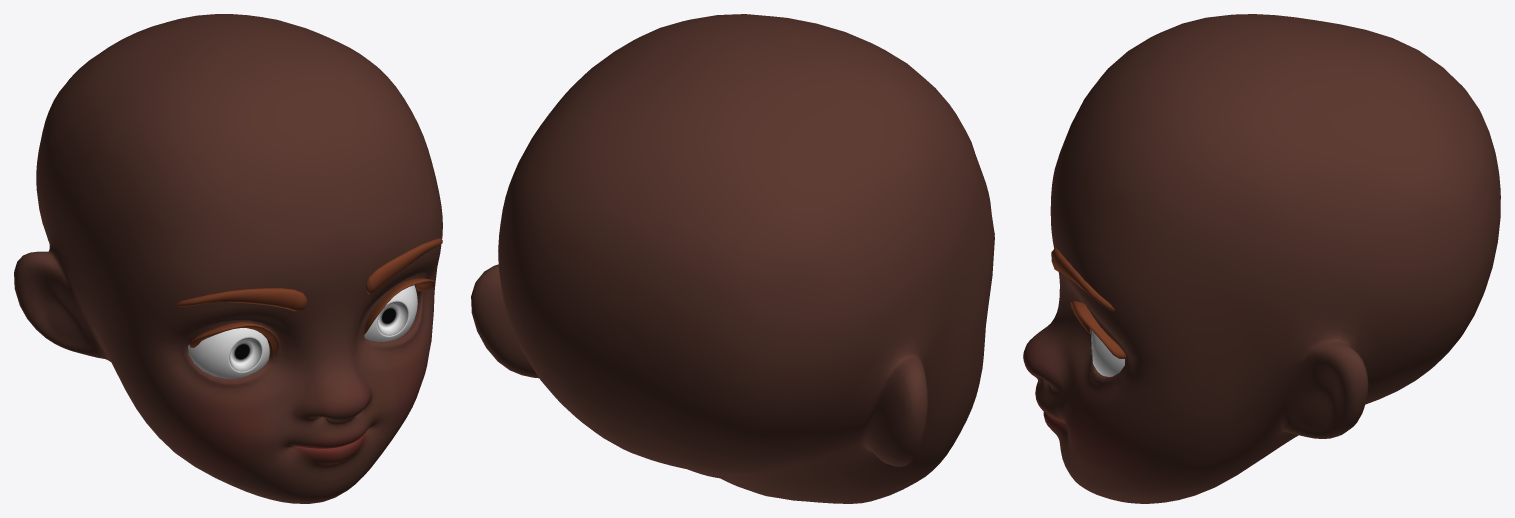
3 renders of one model, left to right at view 1: azimuth 30°, elevation 25°; view 2: azimuth 150°, elevation 25°; view 3: azimuth 270°, elevation 25°, orthographic. The views are drawn at different scales.
Parts seen in each view (by area): view 1: skin, eyes, brows, lashes; view 2: skin; view 3: skin, lashes, eyes, brows.
Boxes of the visible parts, left/top/right/bottom form: skin: left=14, top=14, right=442, bottom=503; eyes: left=188, top=285, right=417, bottom=378; brows: left=176, top=238, right=442, bottom=311; lashes: left=189, top=278, right=435, bottom=358; skin: left=471, top=14, right=994, bottom=503; skin: left=1023, top=14, right=1500, bottom=503; lashes: left=1070, top=301, right=1126, bottom=358; eyes: left=1090, top=329, right=1124, bottom=376; brows: left=1051, top=248, right=1114, bottom=311.
Bounding box in the file's own units: 1.9 × 2 × 1.92.
9 materials, 2 textured.
